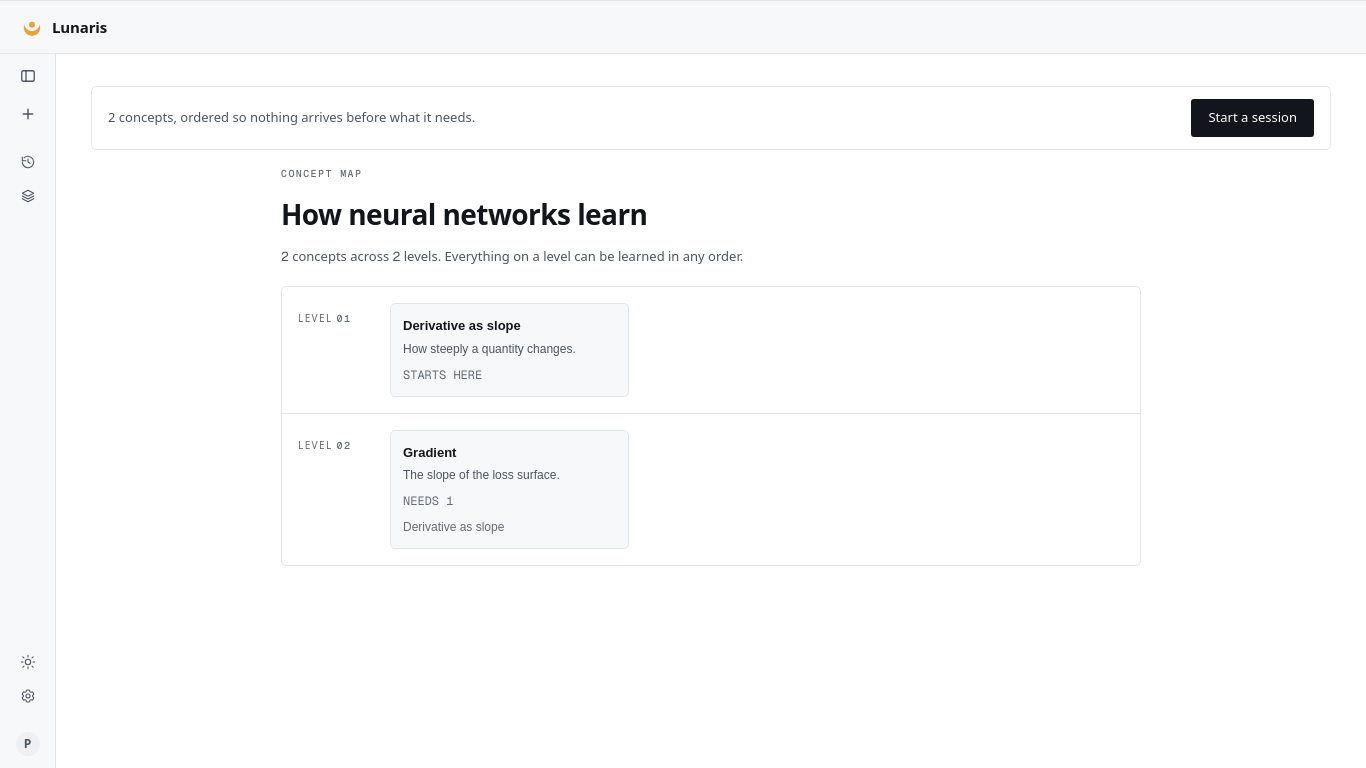
Scenario: LiveShell — the concept's teaching notes › opens the notes for the concept the learner picks
Click the button "Derivative as slope".
click(510, 350)  # box left=390, top=303, right=629, bottom=396
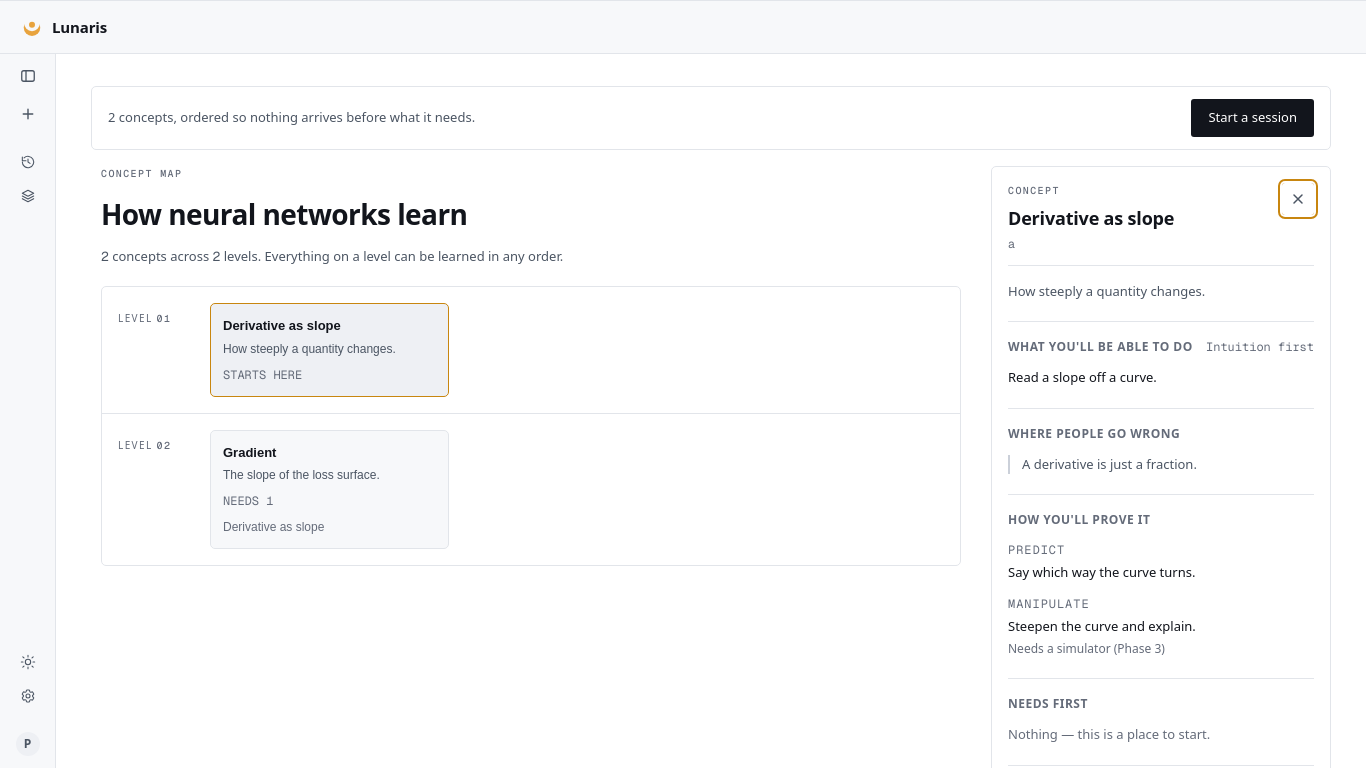
Expected: the text "Read a slope off a curve." is shown, left=1008, top=368, right=1157, bottom=386
Expected: the list item "A derivative is just a fraction." is shown, left=1008, top=455, right=1314, bottom=474
Expected: the text "Say which way the curve turns." is shown, left=1008, top=563, right=1196, bottom=581
